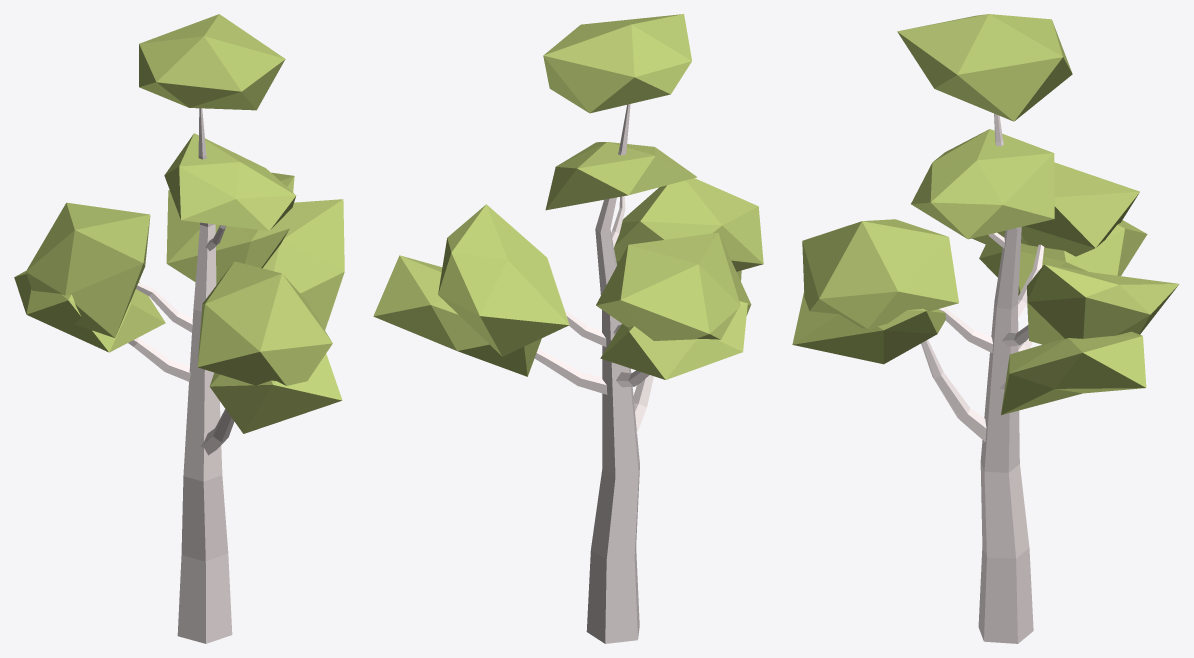
The model's file is Birch_007.fbx.
3 views of the same model, side by side, from view 1: azimuth 30°, elevation 25°; view 2: azimuth 150°, elevation 25°; view 3: azimuth 270°, elevation 25° (orthographic).
Parts seen in each view (by area): view 1: Birch.007; view 2: Birch.007; view 3: Birch.007.
Boxes of the visible parts, bbox=[...] form: Birch.007: bbox=[14, 14, 344, 643]; Birch.007: bbox=[373, 14, 763, 643]; Birch.007: bbox=[792, 14, 1179, 643].
Bounding box in the file's own units: 3.69 × 6.45 × 3.68.
